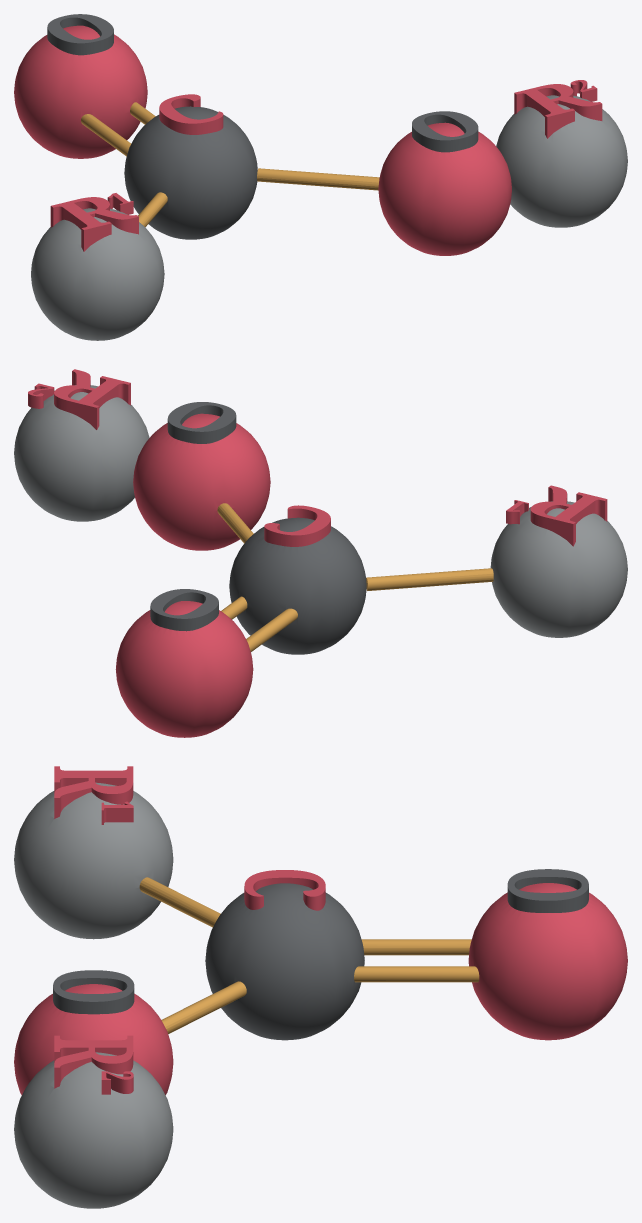
File: ester.glb
3 renders of one model, top to bottom at view 1: azimuth 30°, elevation 25°; view 2: azimuth 150°, elevation 25°; view 3: azimuth 270°, elevation 25°, orthographic. The views are drawn at different scales.
Parts seen in each view (by area): view 1: Mesh_Mesh_head_geo.001_lambert2SG.001_0; view 2: Mesh_Mesh_head_geo.001_lambert2SG.001_0; view 3: Mesh_Mesh_head_geo.001_lambert2SG.001_0.
Boxes of the visible parts, <box> form: Mesh_Mesh_head_geo.001_lambert2SG.001_0: <box>14,14,627,340</box>; Mesh_Mesh_head_geo.001_lambert2SG.001_0: <box>14,369,627,737</box>; Mesh_Mesh_head_geo.001_lambert2SG.001_0: <box>14,766,627,1208</box>.
Size of the model in its own units: 100 by 20.5 by 77.
